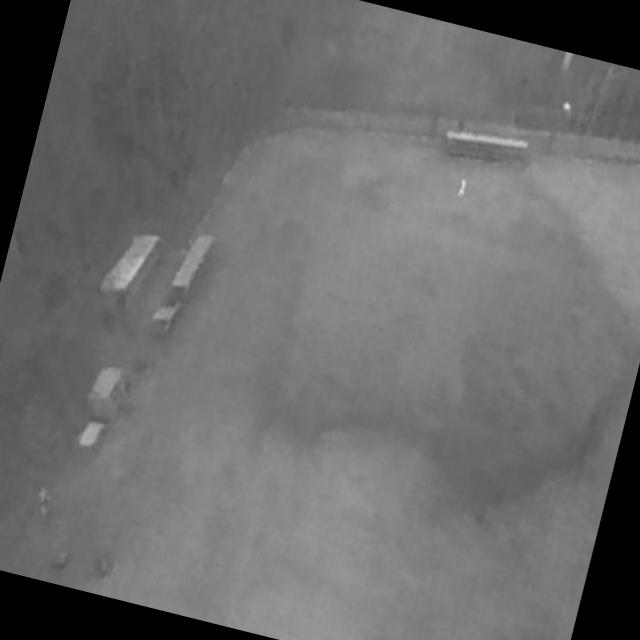person: (457, 177, 469, 199)
